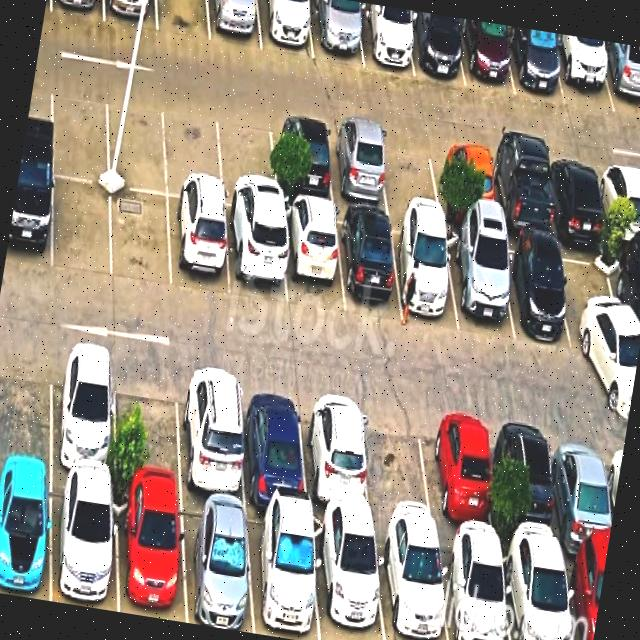empty: (360, 396, 437, 533), (116, 354, 182, 494), (557, 240, 628, 355), (0, 337, 51, 470), (217, 106, 278, 214), (107, 88, 167, 195), (112, 187, 171, 290), (166, 98, 223, 203), (53, 177, 112, 278), (52, 79, 109, 183), (379, 130, 441, 216), (157, 0, 210, 41)
occupied: (180, 496, 254, 634), (426, 404, 496, 543), (115, 486, 186, 623), (301, 388, 372, 524), (247, 507, 319, 640), (179, 365, 245, 504), (52, 474, 118, 612), (240, 376, 307, 511), (313, 516, 385, 640), (51, 343, 115, 482), (499, 414, 562, 551), (551, 422, 613, 556), (375, 529, 448, 640), (444, 229, 515, 340), (498, 236, 570, 344), (391, 218, 459, 331), (438, 535, 510, 640), (337, 209, 402, 319), (281, 202, 344, 313), (0, 467, 52, 601), (501, 544, 573, 640), (168, 197, 230, 297), (225, 208, 287, 306), (488, 147, 554, 238), (271, 115, 334, 204), (434, 139, 497, 227), (328, 123, 389, 210), (547, 154, 607, 240), (551, 33, 614, 113), (5, 166, 53, 270), (507, 26, 565, 104), (406, 10, 465, 86), (459, 18, 515, 95), (356, 2, 414, 76), (562, 551, 607, 640), (598, 160, 640, 244), (310, 0, 363, 65), (257, 0, 314, 59), (598, 40, 640, 117), (612, 247, 640, 362), (208, 0, 261, 51), (104, 0, 157, 30), (51, 0, 104, 21)
